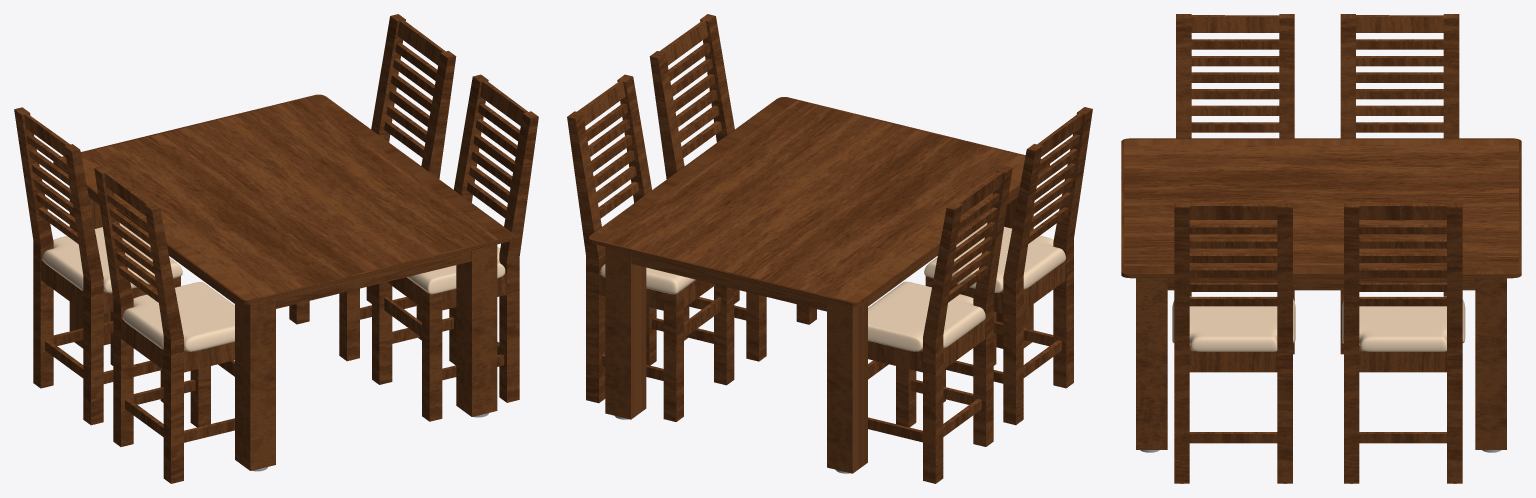
The model's file is dining_table.glb.
3 views of the same model, side by side, from view 1: azimuth 30°, elevation 25°; view 2: azimuth 150°, elevation 25°; view 3: azimuth 270°, elevation 25° (orthographic). The views are drawn at different scales.
Visible parts, largest first — view 1: Cube.003, Cube.004, Cube.006, Cube.008, Cube.001, Cube.005, Cube.007, Cube.002; view 2: Cube.003, Cube.001, Cube.008, Cube.006, Cube.004, Cube.007, Cube.005, Cube; view 3: Cube.003, Cube.004, Cube.001, Cube.008, Cube.006, Cube.002, Cube.
Part boxes in pixels (left/top/right/bottom): Cube.003: left=53, top=94, right=513, bottom=470; Cube.004: left=372, top=74, right=538, bottom=421; Cube.006: left=94, top=166, right=234, bottom=483; Cube.008: left=14, top=107, right=180, bottom=425; Cube.001: left=289, top=14, right=456, bottom=361; Cube.005: left=122, top=282, right=234, bottom=351; Cube.007: left=42, top=223, right=182, bottom=293; Cube.002: left=407, top=246, right=505, bottom=294; Cube.003: left=589, top=97, right=1049, bottom=473; Cube.001: left=567, top=74, right=734, bottom=421; Cube.008: left=868, top=165, right=1012, bottom=483; Cube.006: left=925, top=107, right=1092, bottom=425; Cube.004: left=649, top=14, right=816, bottom=361; Cube.007: left=868, top=281, right=985, bottom=351; Cube.005: left=924, top=223, right=1065, bottom=292; Cube: left=600, top=264, right=695, bottom=294; Cube.003: left=1121, top=138, right=1521, bottom=449; Cube.004: left=1174, top=203, right=1292, bottom=483; Cube.001: left=1344, top=203, right=1462, bottom=483; Cube.008: left=1340, top=14, right=1459, bottom=354; Cube.006: left=1176, top=14, right=1294, bottom=354; Cube.002: left=1172, top=296, right=1295, bottom=351; Cube: left=1342, top=296, right=1465, bottom=351.
Size of the model in its own units: 3.15 by 2.18 by 2.76.
Materials: 3 (1 with a texture image).
